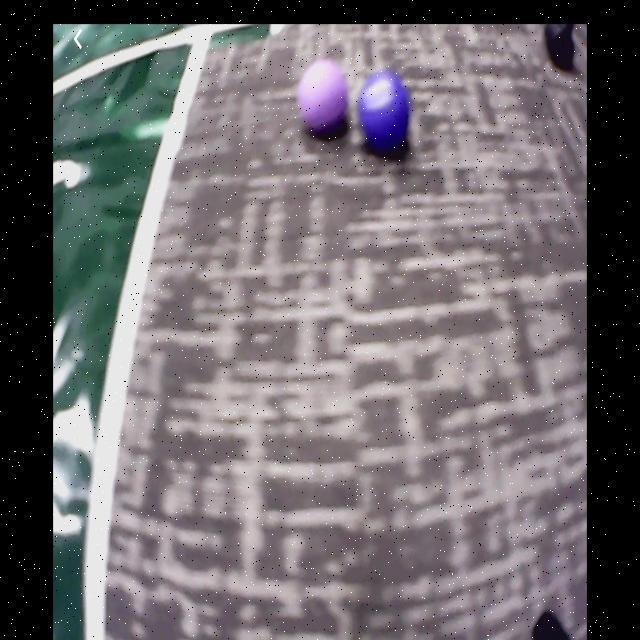ball: (358, 68, 409, 152), (300, 59, 351, 137)
